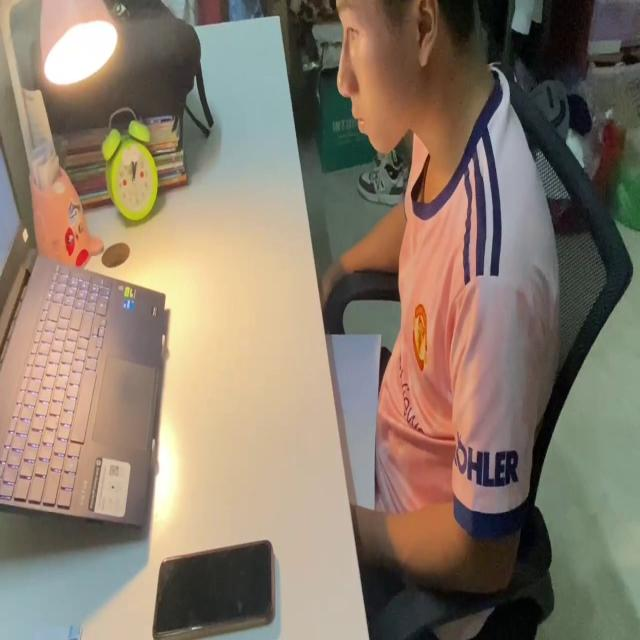book: (327, 322, 383, 520)
laptop: (0, 122, 167, 536)
phone: (153, 538, 276, 640)
student: (330, 0, 562, 640)
